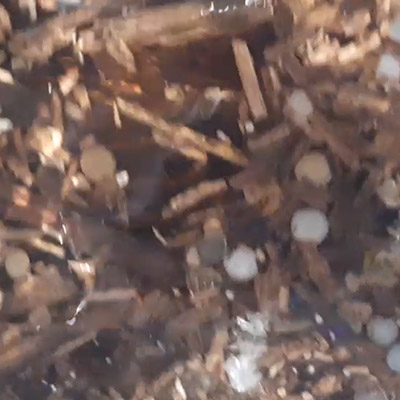nurdle: (216, 243, 265, 284), (288, 209, 332, 247), (291, 155, 337, 190), (283, 87, 316, 126), (364, 314, 399, 348), (1, 251, 35, 283)
